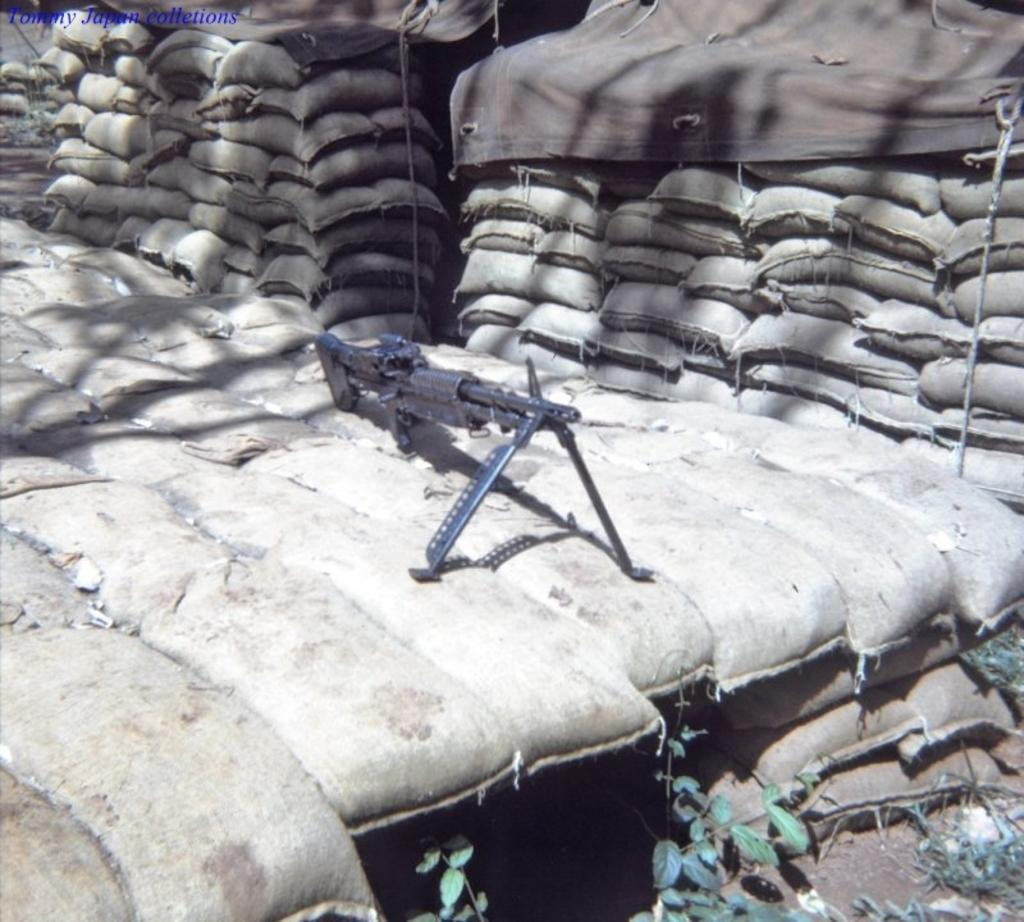Rifle: (321, 324, 677, 574)
